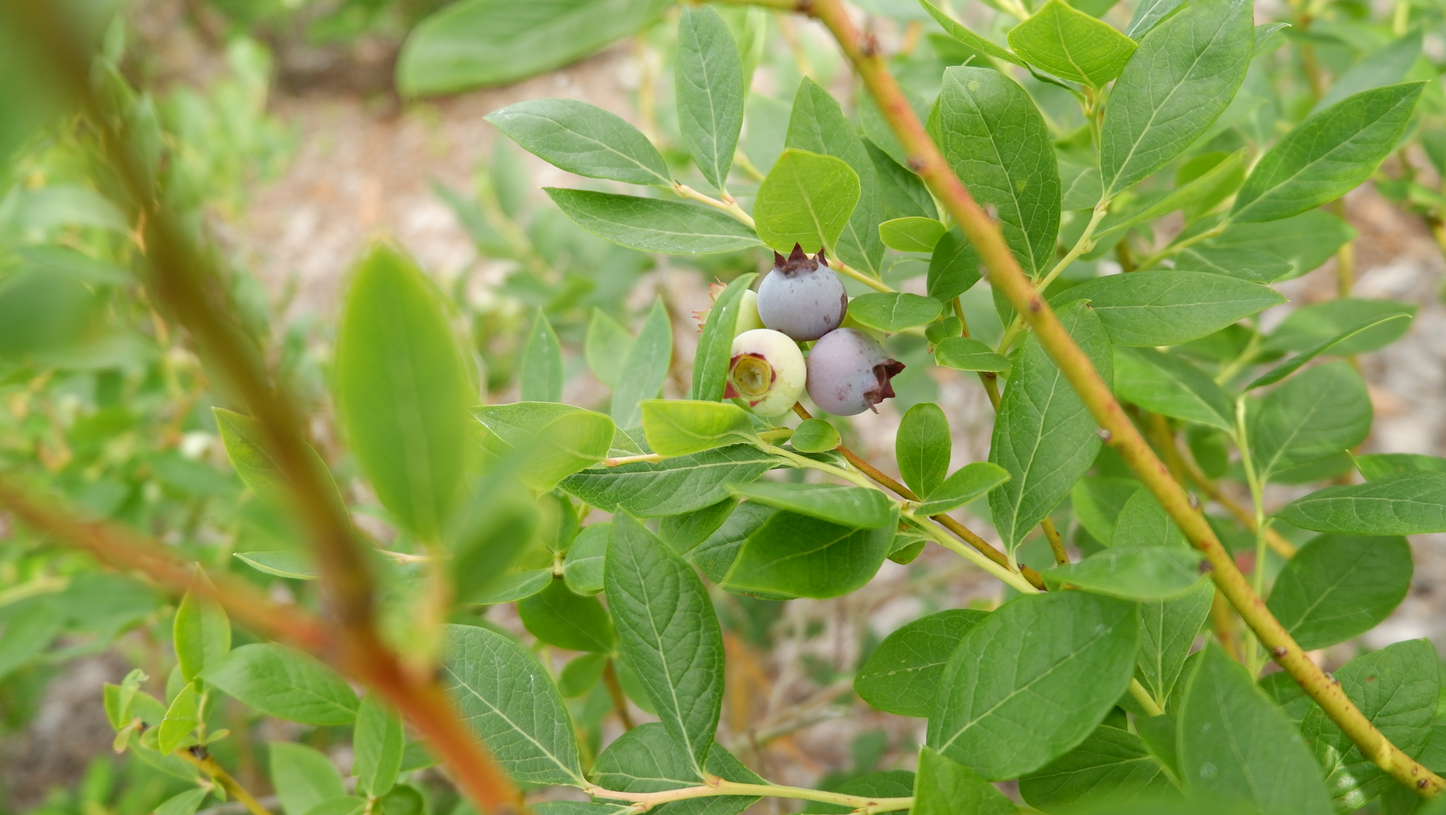Immature: (723, 329, 807, 417), (691, 276, 766, 340), (805, 297, 885, 351)
Mature: (805, 327, 908, 416), (757, 241, 848, 341)
